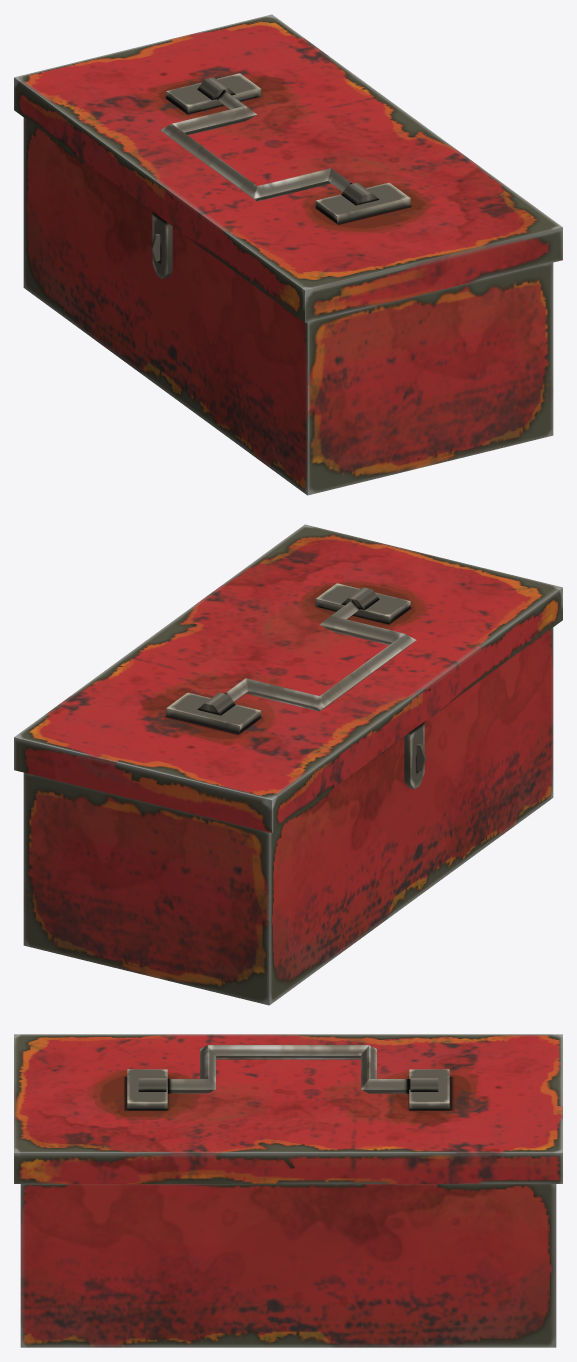
Rendered from ITEM_toolbox.FBX.
3 renders of one model, top to bottom at view 1: azimuth 30°, elevation 25°; view 2: azimuth 150°, elevation 25°; view 3: azimuth 270°, elevation 25°, orthographic. The views are drawn at different scales.
Parts seen in each view (by area): view 1: ITEM_toolbox, ITEM_toolbox_lid, ITEM_toolbox_handle; view 2: ITEM_toolbox, ITEM_toolbox_lid, ITEM_toolbox_handle; view 3: ITEM_toolbox, ITEM_toolbox_lid, ITEM_toolbox_handle.
Part boxes in pixels (left/top/right/bottom): ITEM_toolbox: left=23, top=117, right=553, bottom=495; ITEM_toolbox_lid: left=14, top=14, right=562, bottom=322; ITEM_toolbox_handle: left=160, top=90, right=351, bottom=201; ITEM_toolbox: left=23, top=627, right=553, bottom=1005; ITEM_toolbox_lid: left=14, top=524, right=562, bottom=832; ITEM_toolbox_handle: left=225, top=600, right=416, bottom=711; ITEM_toolbox: left=20, top=1184, right=556, bottom=1347; ITEM_toolbox_lid: left=14, top=1034, right=562, bottom=1183; ITEM_toolbox_handle: left=167, top=1045, right=410, bottom=1093.
Bounding box in the file's own units: 21.65 × 17.51 × 41.
